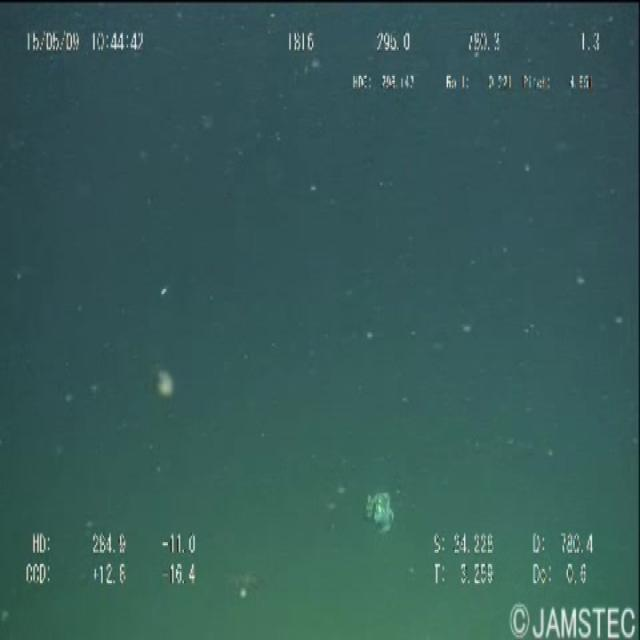Litter: (356, 472, 404, 542)
